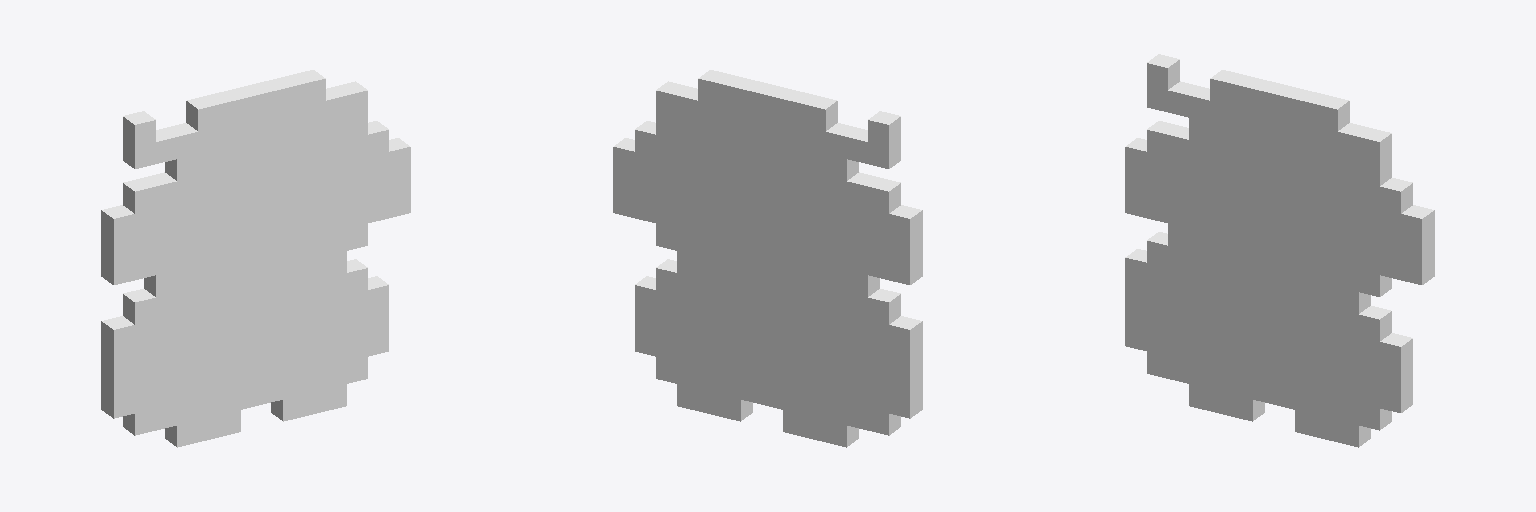
File: throw.obj
3 renders of one model, left to right at view 1: azimuth 30°, elevation 25°; view 2: azimuth 150°, elevation 25°; view 3: azimuth 330°, elevation 25°, orthographic.
Parts seen in each view (by area): view 1: object 1; view 2: object 1; view 3: object 1.
Boxes of the visible parts, x1,y1,x2,y2 form: object 1: [101, 70, 410, 447]; object 1: [613, 70, 922, 447]; object 1: [1125, 54, 1434, 447].
Size of the model in its own units: 1.4 by 1.5 by 0.1.